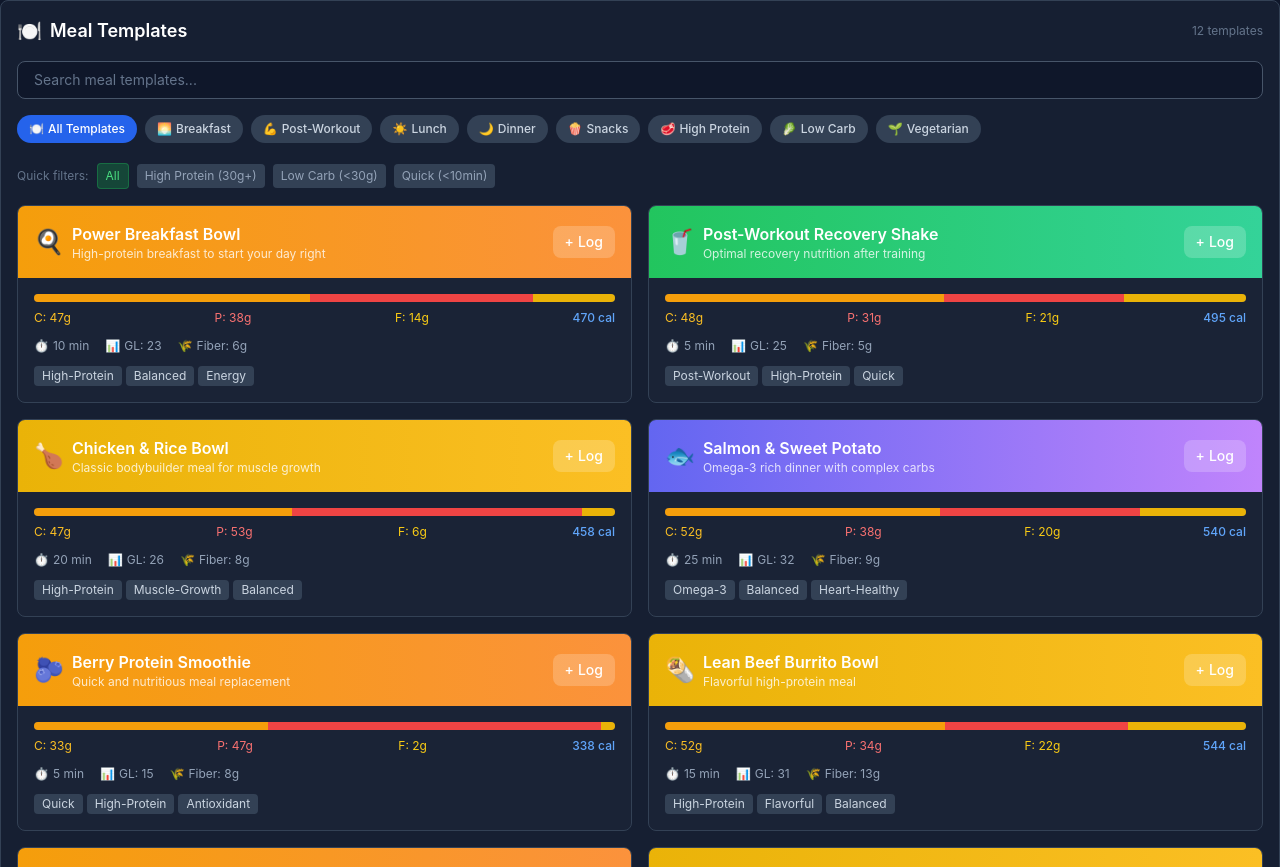
Test: MealTemplates Component › Search Functionality › should show no results message for empty search
The width and height of the screenshot is (1280, 867).
Type "xyznonexistent123" into the field with placeholder "Search meal templates..." at (640, 80), box [17,61,1263,99]
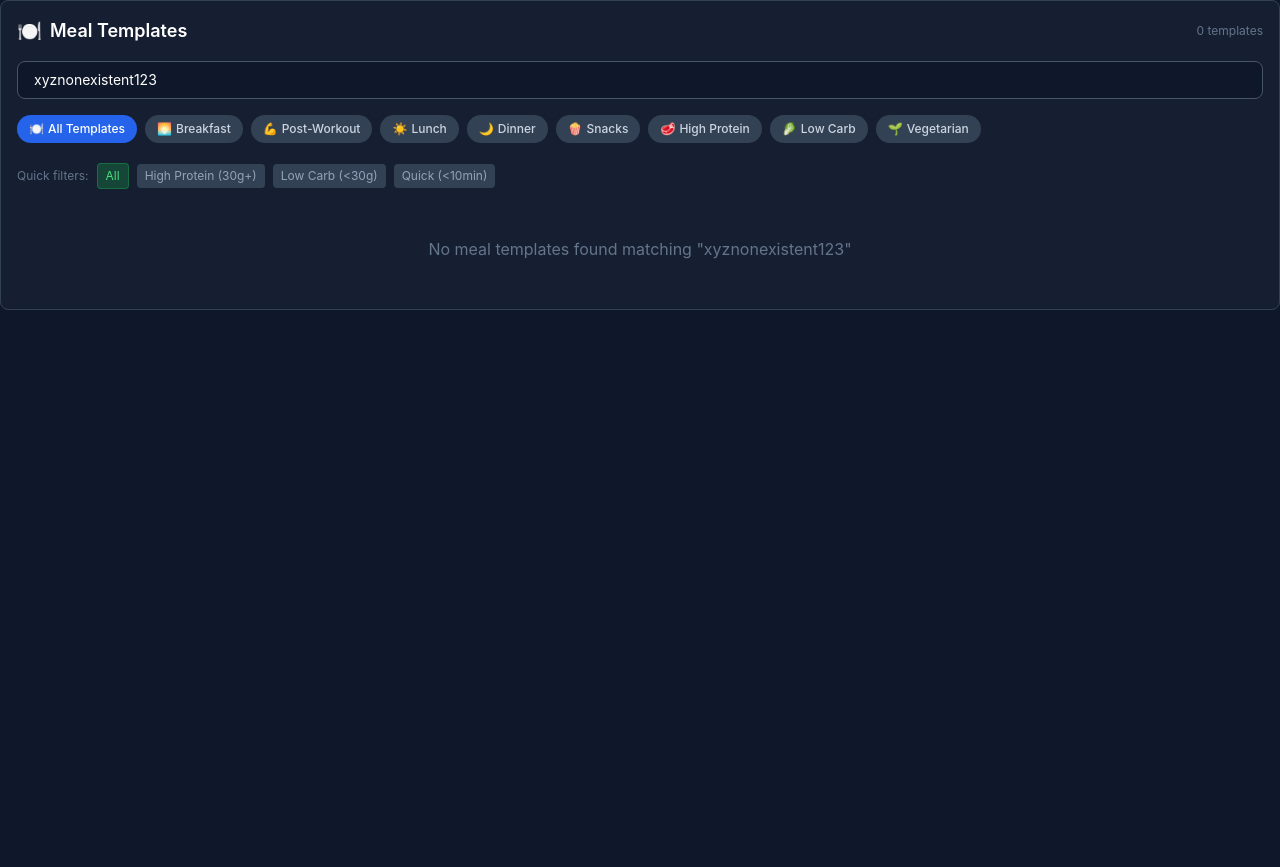
Check: the text "No meal templates found matching \"xyznonexistent123\"" is shown, box [428,239,852,259]
